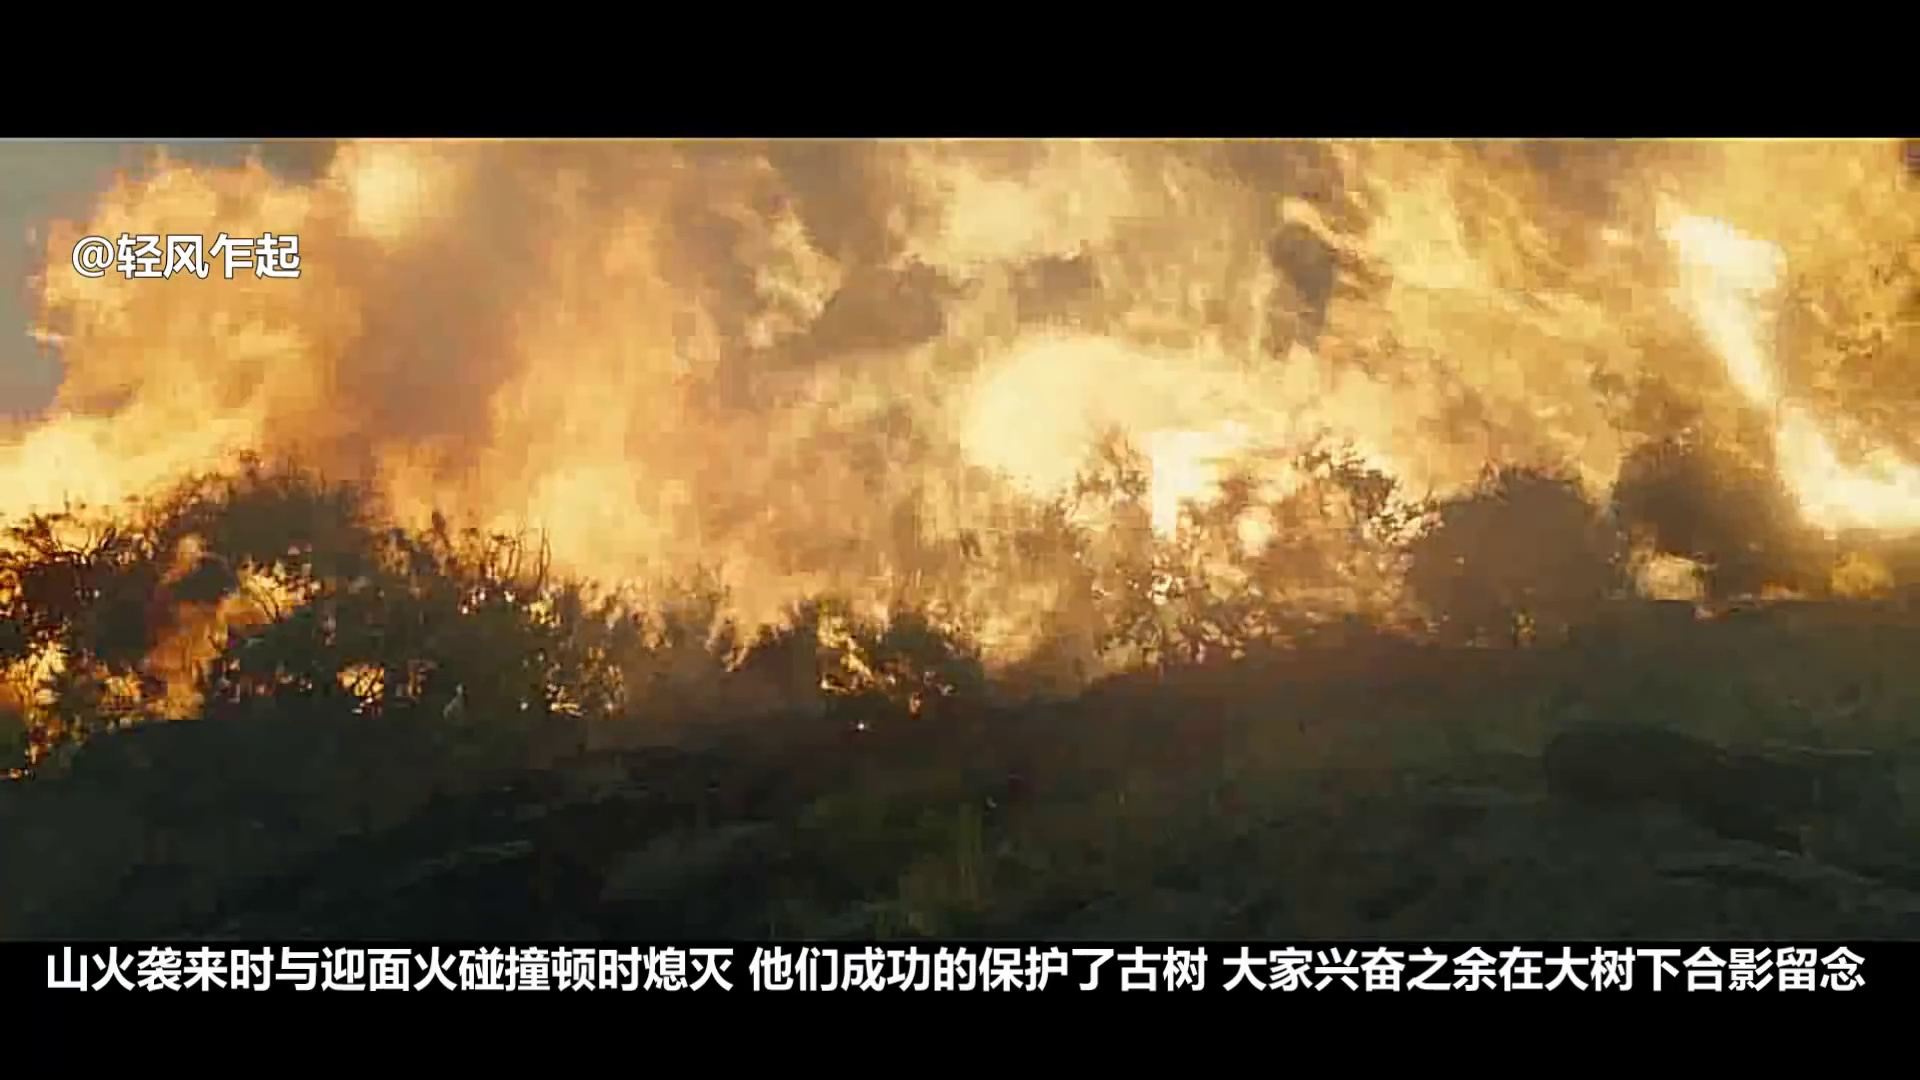fire: (911, 144, 1912, 530), (472, 144, 847, 613), (42, 251, 334, 464), (123, 156, 419, 237)
